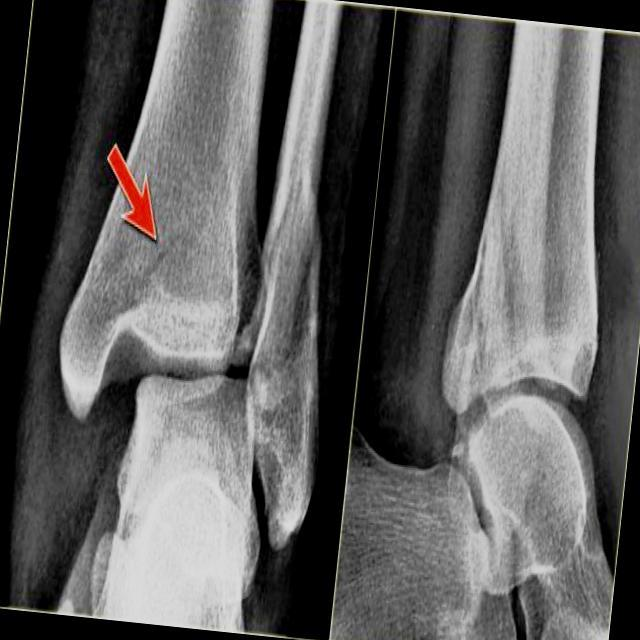HairLine Fracture: (133, 239, 187, 277)
